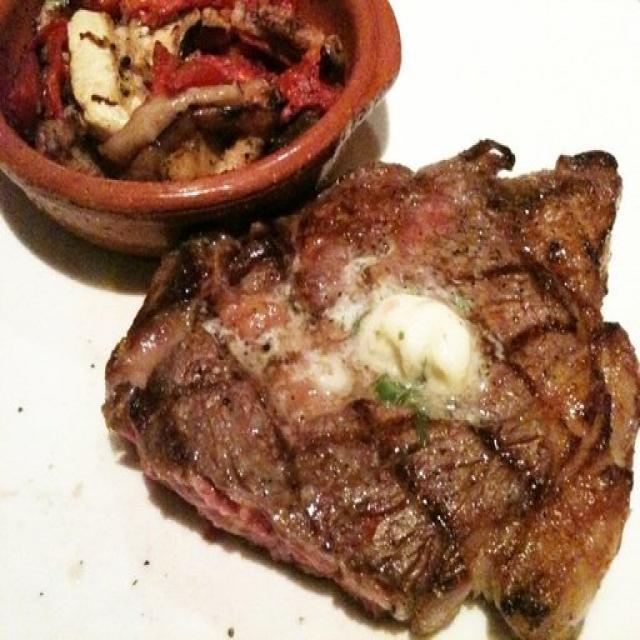Steak: (149, 194, 635, 629)
